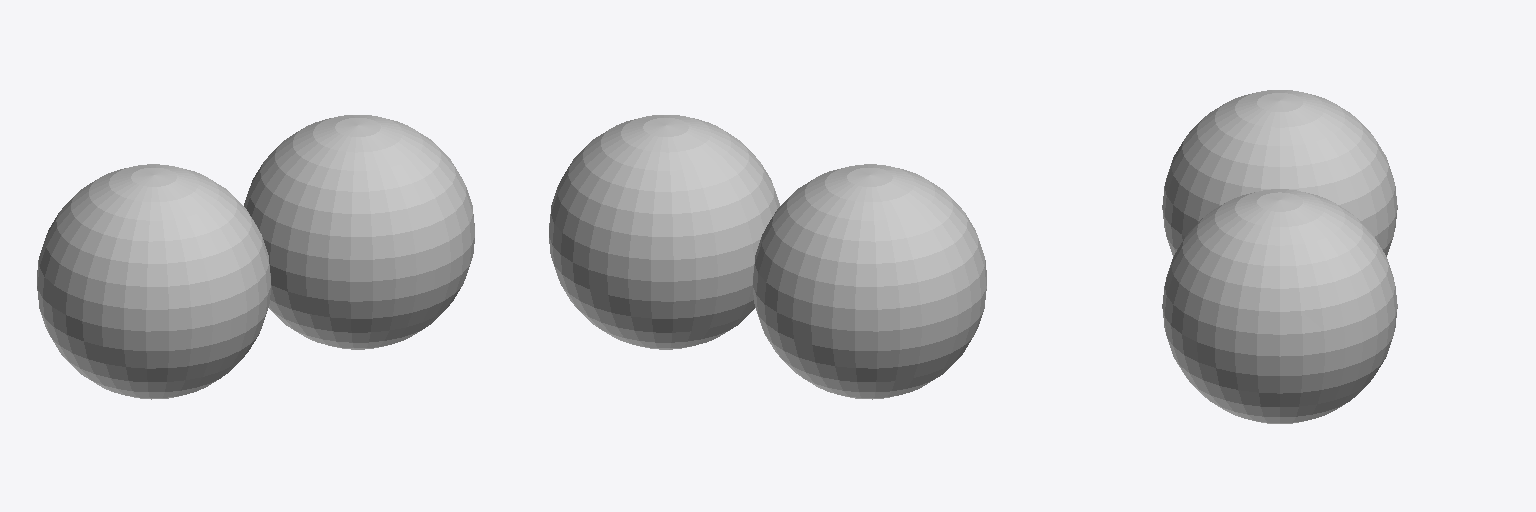
File: ogongron.obj
3 renders of one model, left to right at view 1: azimuth 30°, elevation 25°; view 2: azimuth 150°, elevation 25°; view 3: azimuth 270°, elevation 25°, orthographic.
Visible parts, largest first — view 1: ogon_-_gronbrun_Sphere.001, ogon_-_gronbrun.001_Sphere.001; view 2: ogon_-_gronbrun_Sphere.001, ogon_-_gronbrun.001_Sphere.001; view 3: ogon_-_gronbrun.001_Sphere.001, ogon_-_gronbrun_Sphere.001.
Part boxes in pixels (x1,y1,x2,y2): ogon_-_gronbrun_Sphere.001: (37, 164, 270, 399); ogon_-_gronbrun.001_Sphere.001: (244, 115, 474, 349); ogon_-_gronbrun_Sphere.001: (753, 164, 986, 399); ogon_-_gronbrun.001_Sphere.001: (549, 115, 779, 349); ogon_-_gronbrun.001_Sphere.001: (1162, 189, 1397, 423); ogon_-_gronbrun_Sphere.001: (1162, 90, 1397, 256).
Size of the model in its own units: 0.8 by 0.3962 by 0.4.